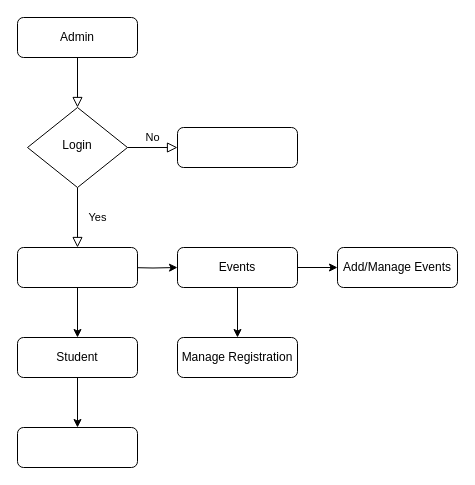
Some shapes in this 475 by 485 pixel diagram are drawn without their labels. Here are the shapes that lost their labels. From the top down, the centre of each, then its label:
At point (237, 147): "Id/Pass Incorrect".
At point (77, 267): "Manage".
At point (77, 447): "Approve/Remove".
